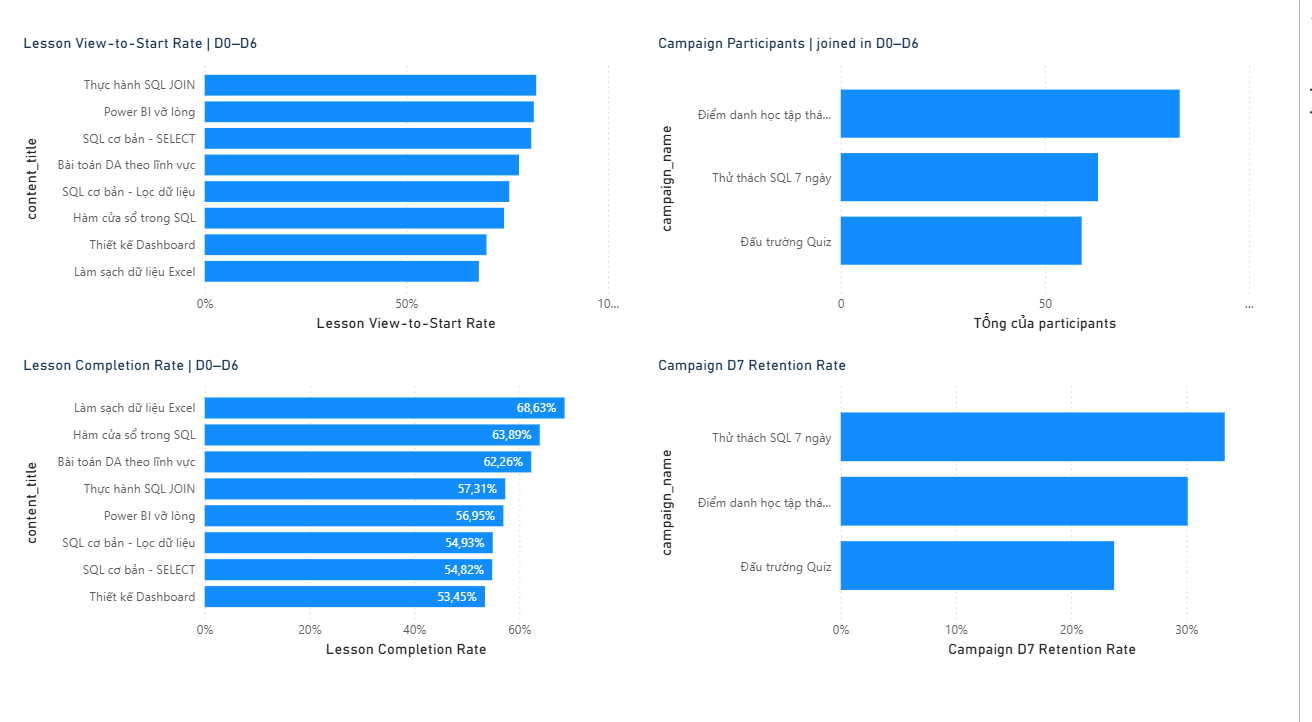

What the dashboard file says about the page in this screenshot:
{"tool":"powerbi","page":{"name":"03 | Learning & Campaigns","canvas":[1280,720],"ordinal":2},"visuals":[{"type":"clusteredBarChart","title":"Lesson View-to-Start Rate | D0–D6","fields":{"Y":["vw_content_funnel.Lesson View-to-Start Rate"],"Category":["vw_content_funnel.content_title"]},"box":[34,38,591,295],"z":0},{"type":"clusteredBarChart","title":"Campaign Participants | joined in D0–D6","fields":{"Y":["Sum(vw_campaign_retention.participants)"],"Category":["vw_campaign_retention.campaign_name"]},"box":[652,38,592,295],"z":1000},{"type":"clusteredBarChart","title":"Lesson Completion Rate | D0–D6","fields":{"Y":["vw_content_funnel.Lesson Completion Rate"],"Category":["vw_content_funnel.content_title"]},"box":[34,351,591,298],"z":2000},{"type":"clusteredBarChart","title":"Campaign D7 Retention Rate","fields":{"Y":["vw_campaign_retention.Campaign D7 Retention Rate"],"Category":["vw_campaign_retention.campaign_name"]},"box":[652,351,592,298],"z":3000}]}

Visuals, with their boxes in screenshot pixels (x1, y1, x2, y2), scaled from the page's 1280x720 canvas onto the 1312x722 screenshot:
"Lesson View-to-Start Rate | D0–D6" clusteredBarChart: bbox(35, 38, 641, 334)
"Campaign Participants | joined in D0–D6" clusteredBarChart: bbox(668, 38, 1275, 334)
"Lesson Completion Rate | D0–D6" clusteredBarChart: bbox(35, 352, 641, 651)
"Campaign D7 Retention Rate" clusteredBarChart: bbox(668, 352, 1275, 651)
